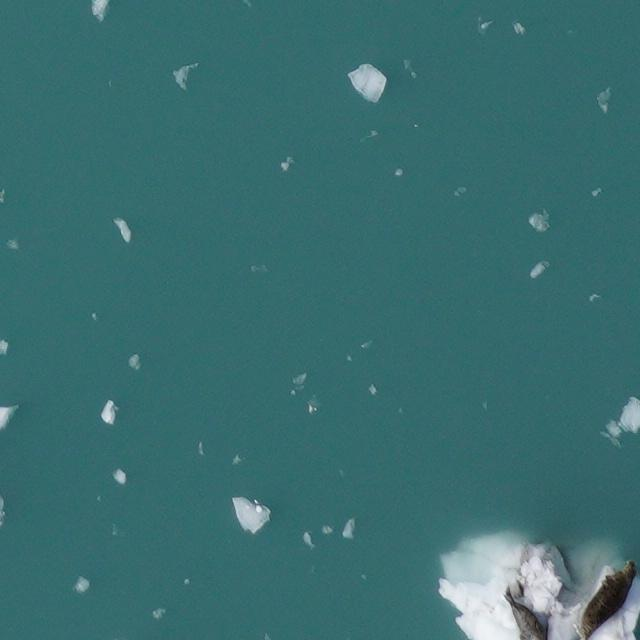seal: (576, 560, 635, 639), (504, 587, 546, 639)
